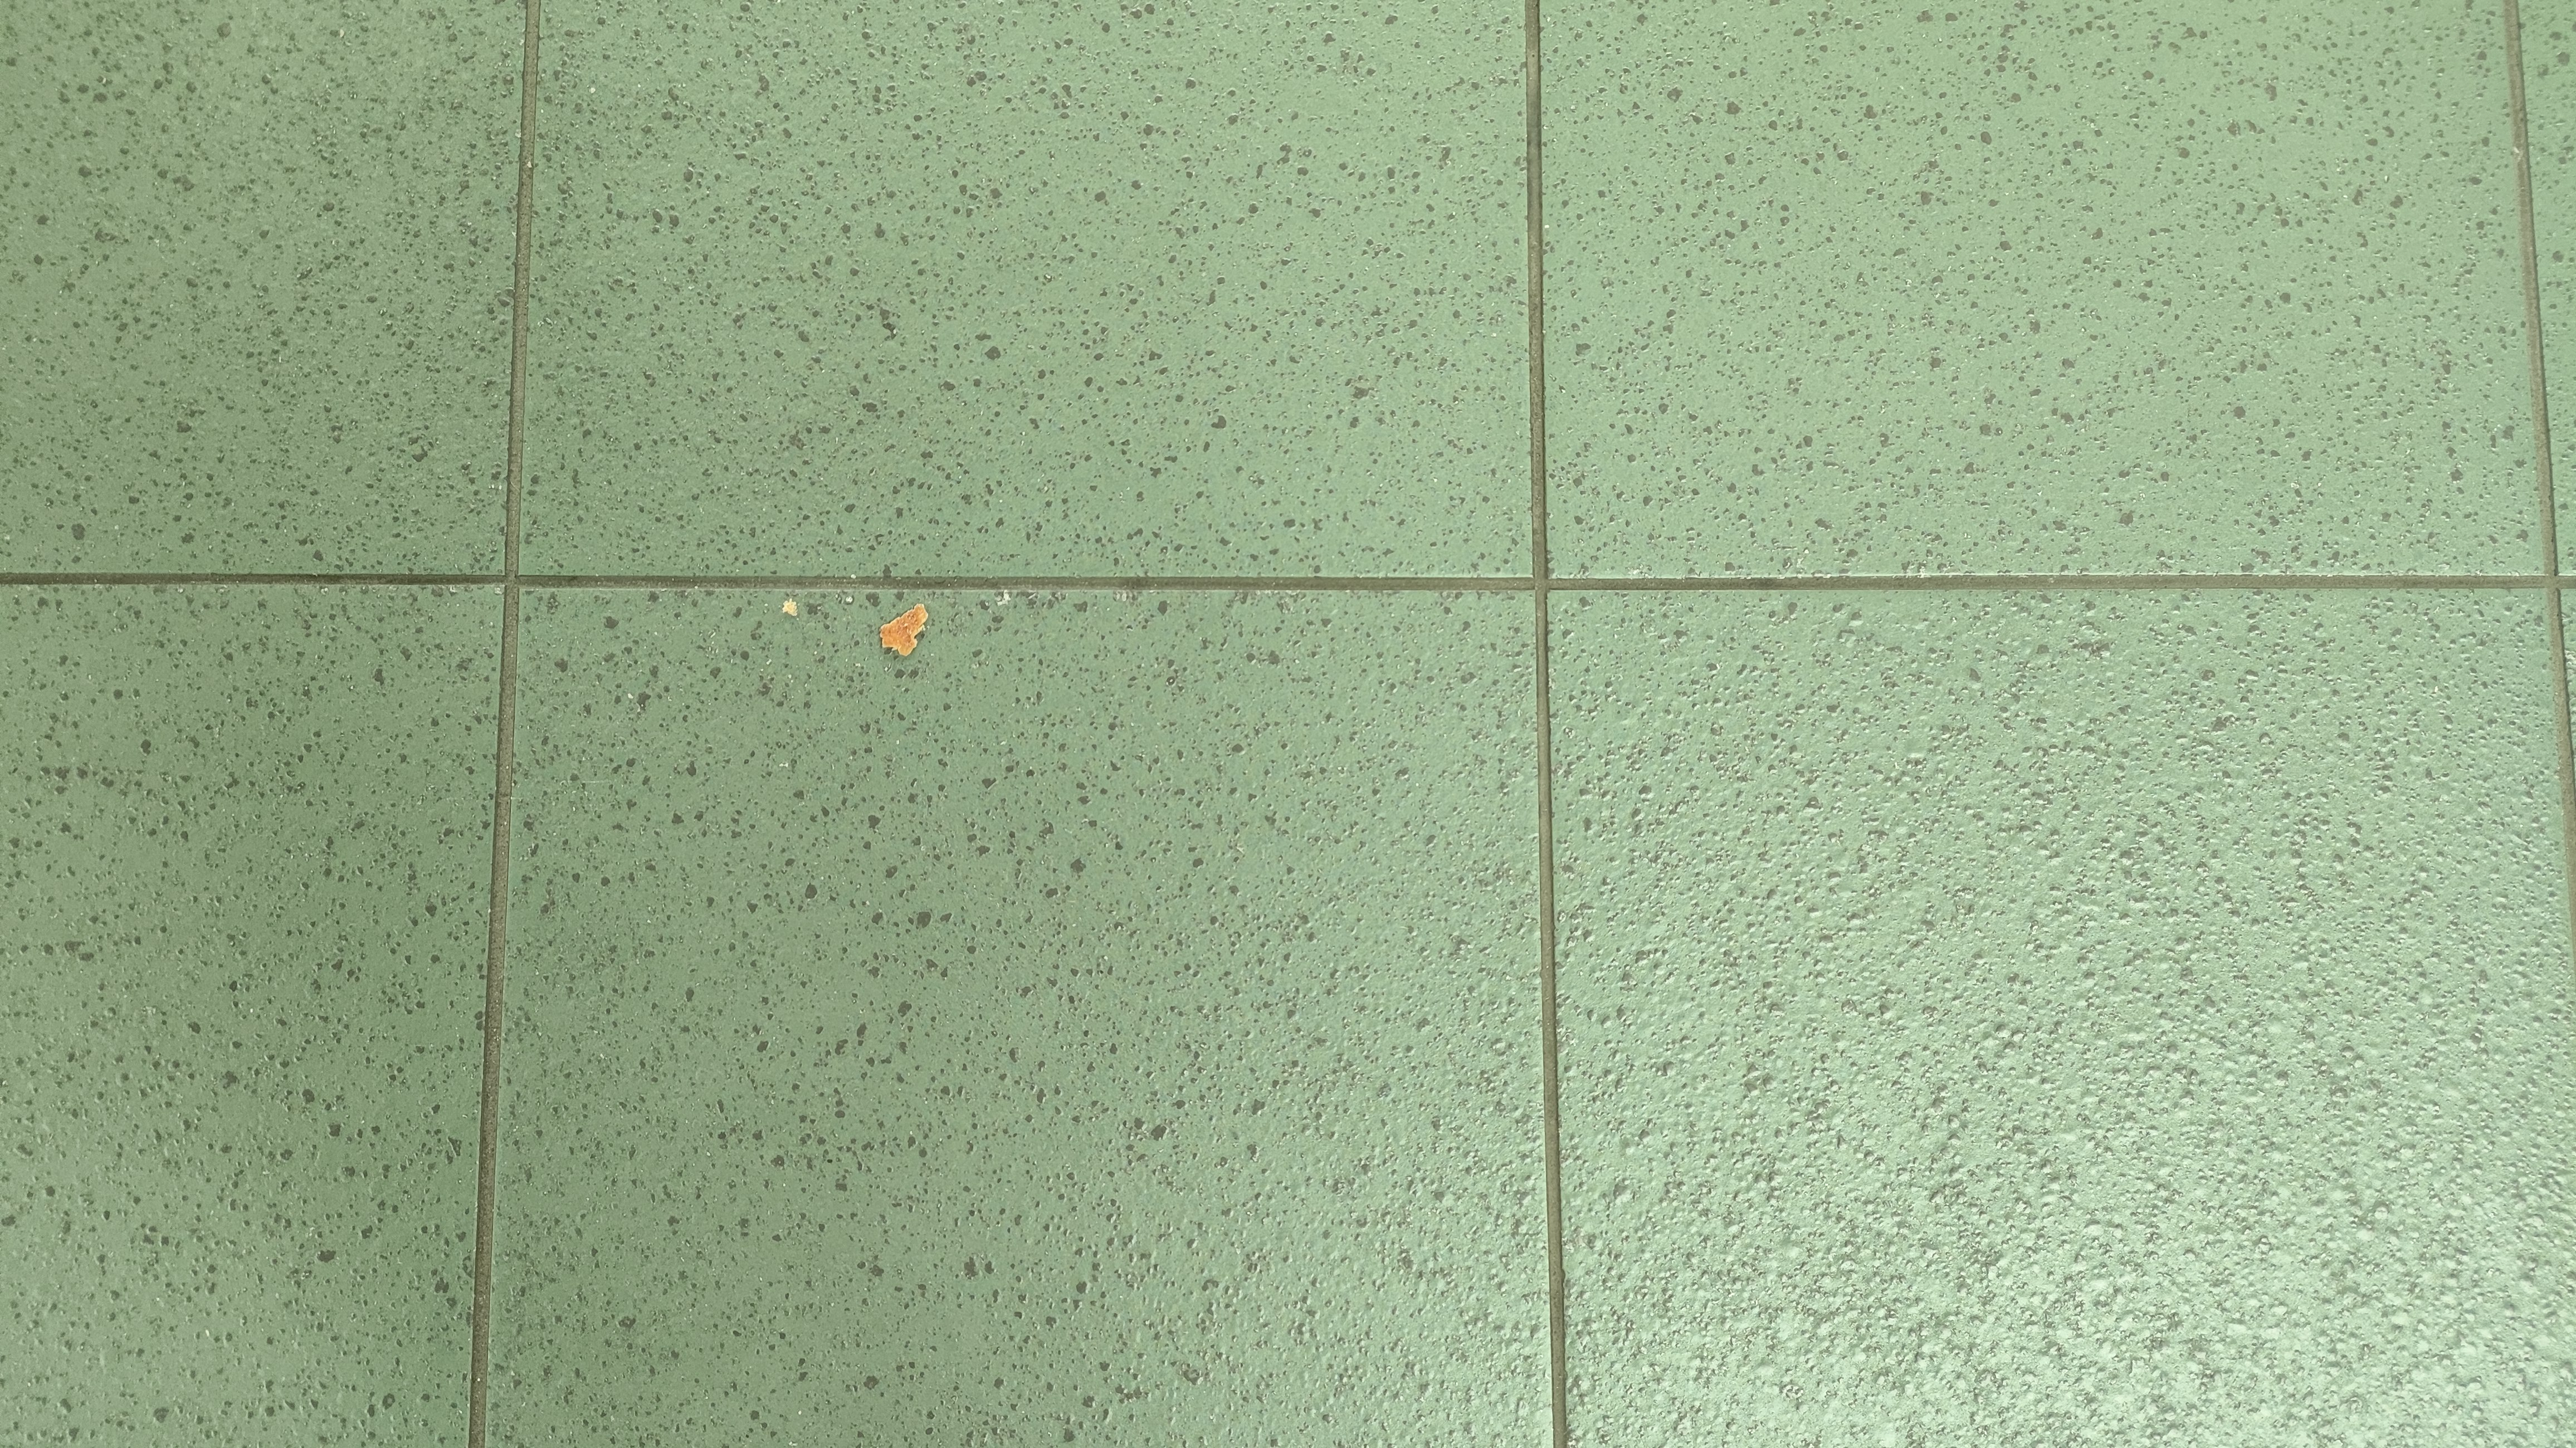Garbage: (870, 603, 945, 663), (777, 599, 810, 622)
